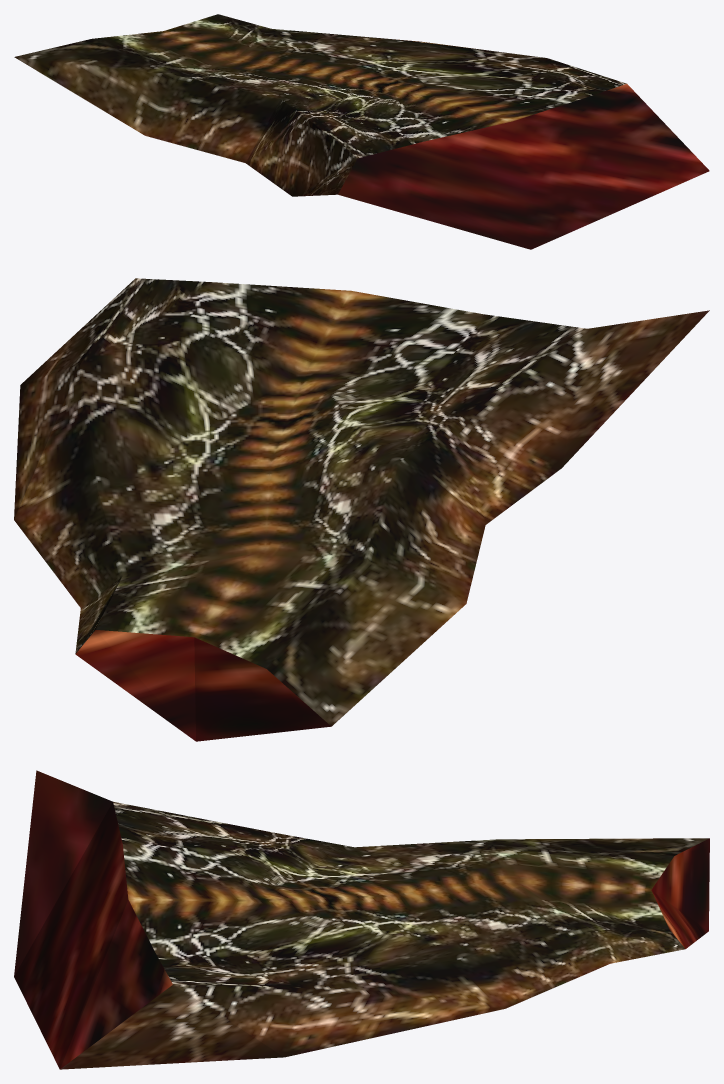
File: ITAT_SHARKSKIN_G.glb
The picture shows the model from 3 angles, top to bottom: view 1: azimuth 30°, elevation 25°; view 2: azimuth 150°, elevation 25°; view 3: azimuth 270°, elevation 25°; orthographic projection. The views are drawn at different scales.
Visible parts, largest first — view 1: ITAT_SHARKSKIN_G; view 2: ITAT_SHARKSKIN_G; view 3: ITAT_SHARKSKIN_G.
Boxes of the visible parts, <box> form: ITAT_SHARKSKIN_G: <box>14,14,709,249</box>; ITAT_SHARKSKIN_G: <box>14,278,709,741</box>; ITAT_SHARKSKIN_G: <box>14,770,709,1069</box>.
Bounding box in the file's own units: 0.3959 × 0.1002 × 0.5136.
1 material, 1 textured.
